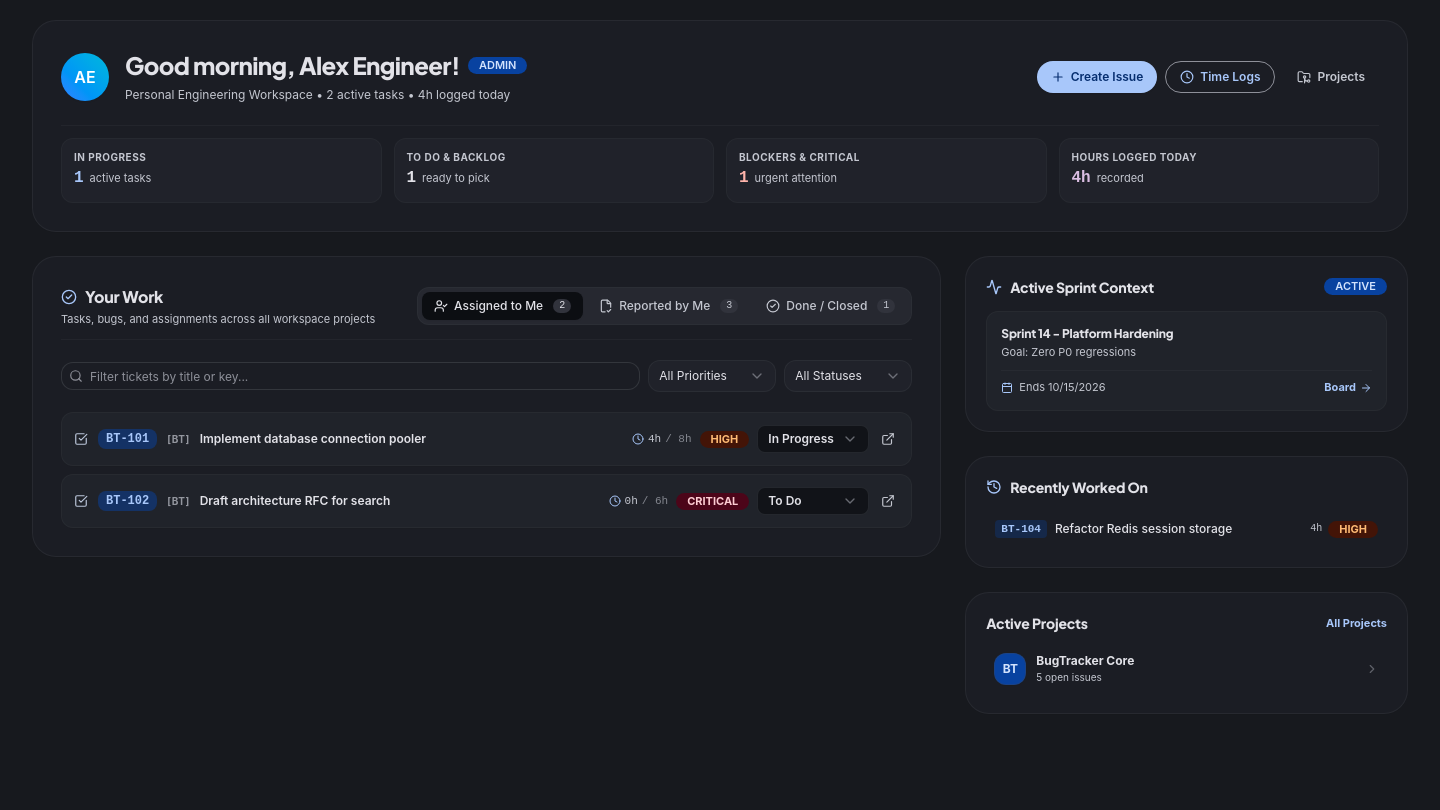
Test case: HomePage (Personal Dashboard) › opens issue details modal when clicking on an issue row
Click the text "Implement database connection pooler" at (313, 439), box [200, 431, 426, 447]
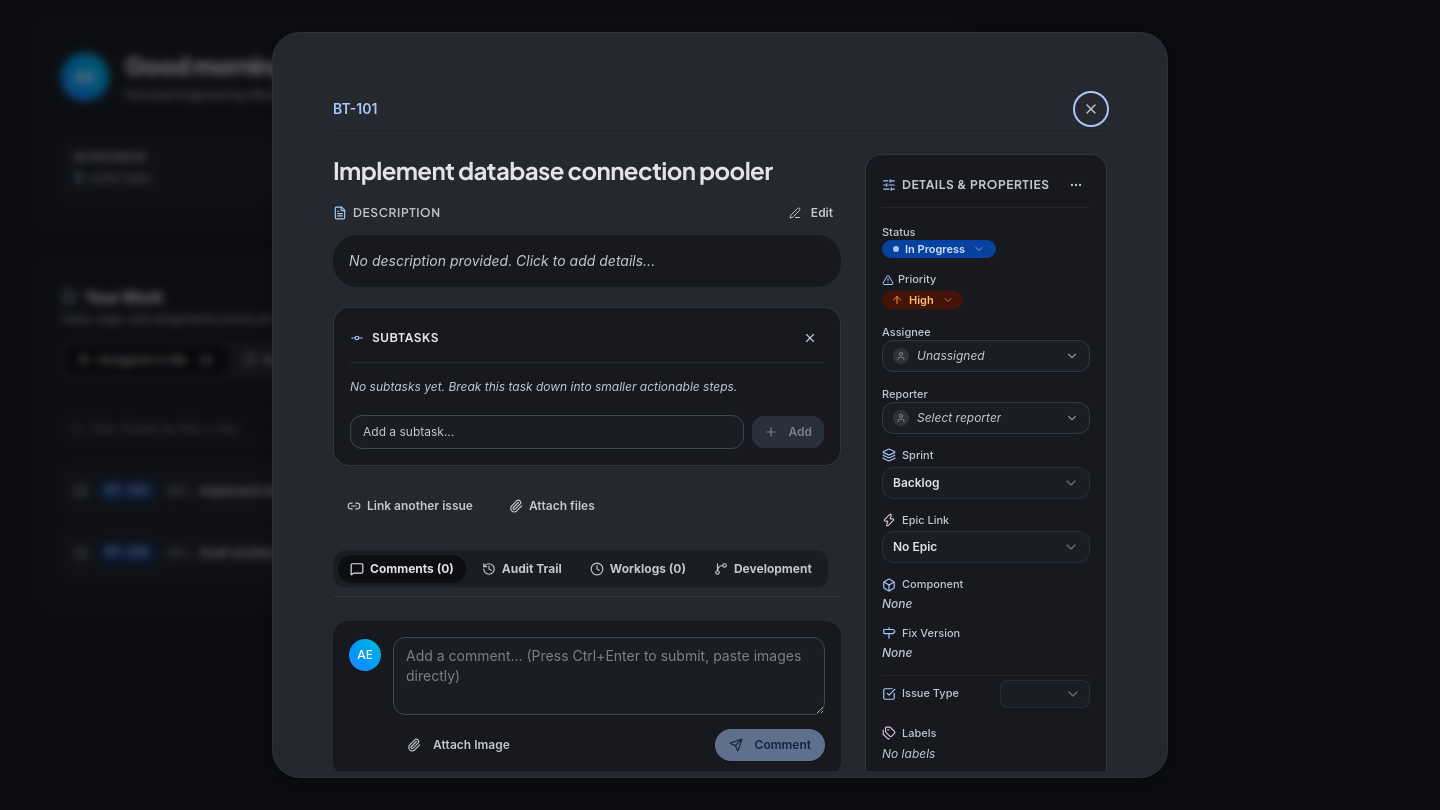
Expected: the dialog is shown, [272, 32, 1168, 778]
